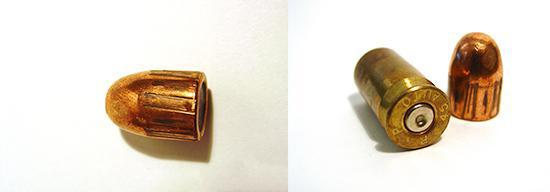Bullet: (102, 55, 222, 144), (448, 34, 514, 124)
